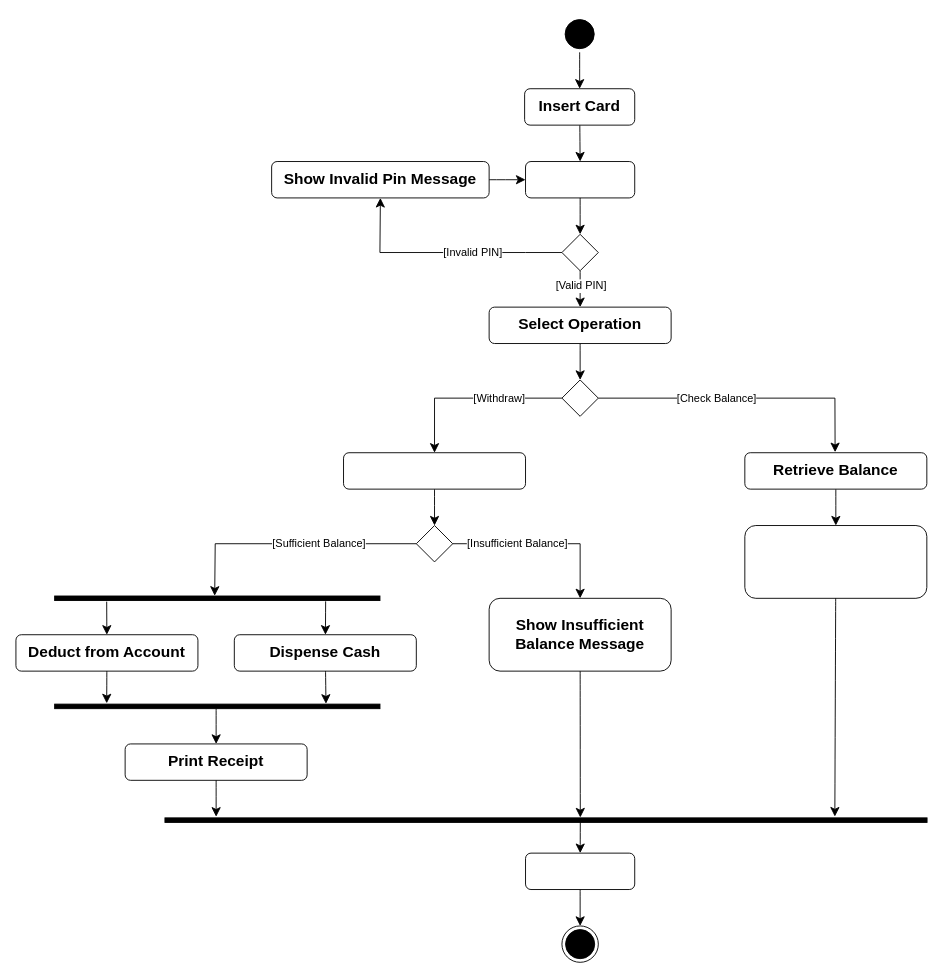
The diagram is 944 pixels wide and 978 high, and some of its shapes have lost their labels. The centre of each missing label's shape, as x and y in pixels:
"Display Balance on Screen" belongs at point (835, 561).
"Eject Card" belongs at point (580, 871).
"Enter Amount" belongs at point (434, 470).
"Enter PIN" belongs at point (580, 179).
